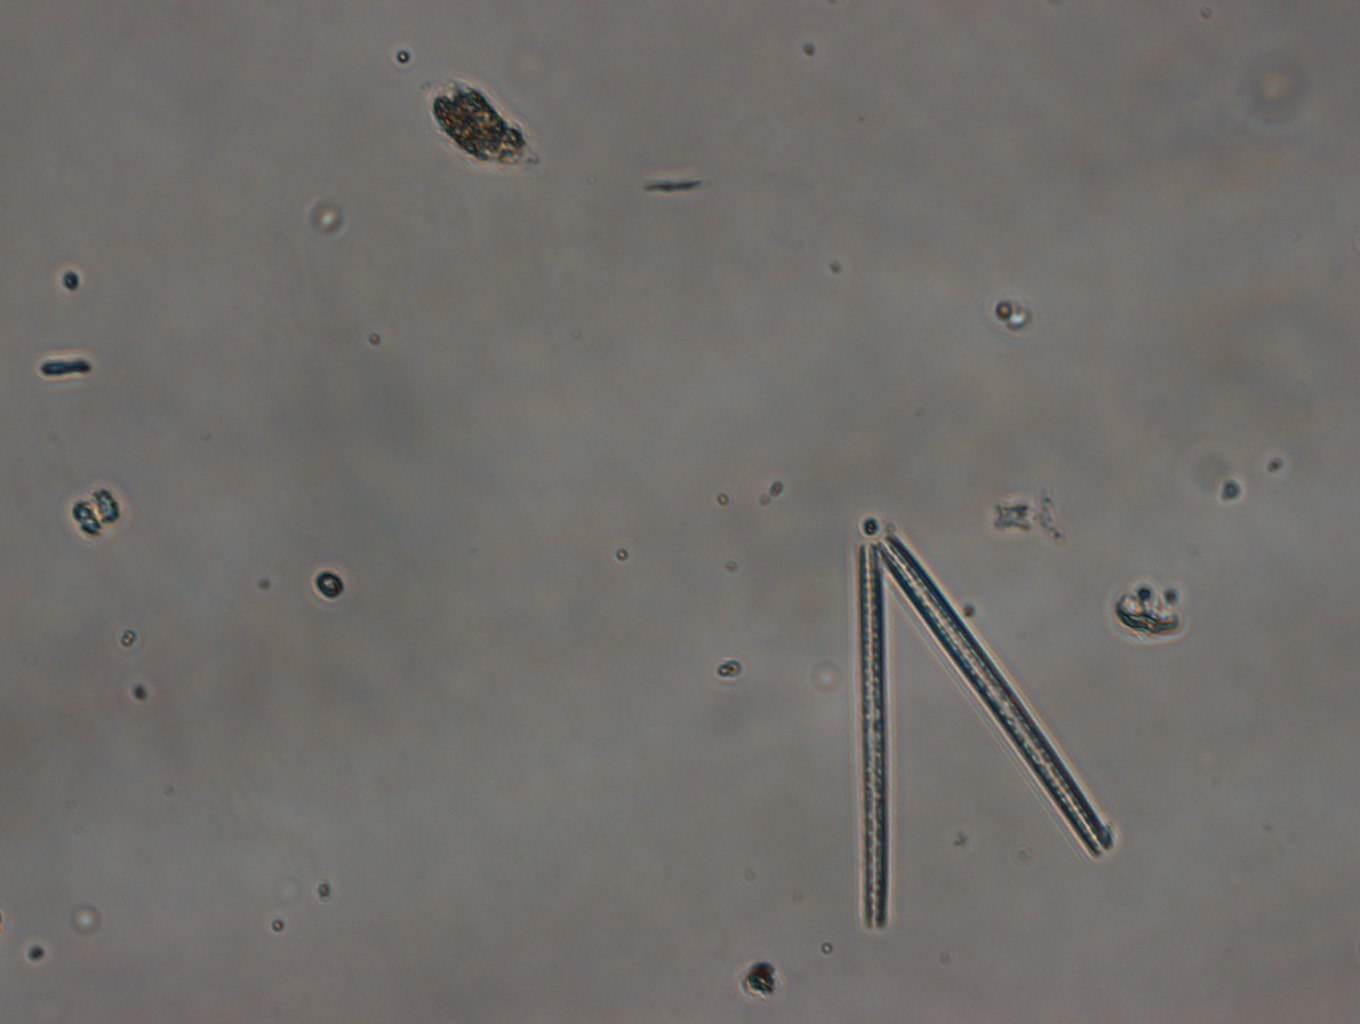thalassionema frauenfeldii: (850, 525, 1113, 929)
